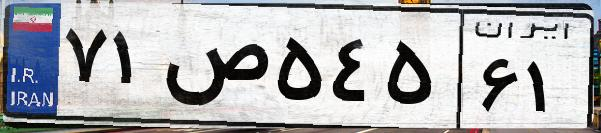1: (525, 38, 570, 115), (110, 28, 158, 98)
4: (330, 28, 385, 110)
5: (270, 28, 330, 110), (385, 28, 445, 110)
6: (475, 38, 525, 113)
7: (57, 26, 110, 100)
ص: (158, 20, 270, 120)
